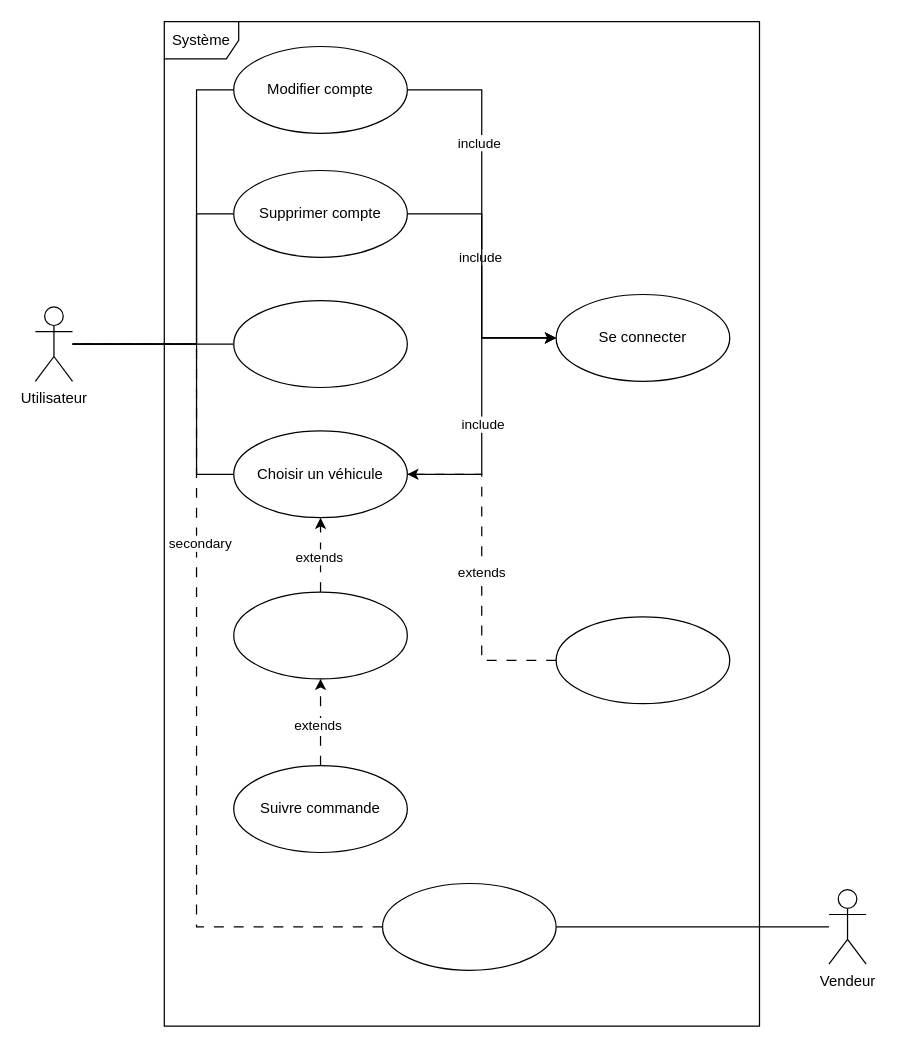
Some shapes in this 897 by 1048 pixel diagram are drawn without their labels. The shapes that lost their labels are listed below. From the top down, each one's centre as x and y in pixels, then its label:
At (x=319, y=343): "Créer un compte".
At (x=319, y=635): "Valider commande".
At (x=642, y=660): "Personnaliser".
At (x=468, y=926): "Notifier".
